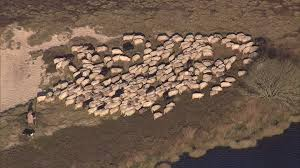sheep: (34, 90, 46, 102), (63, 95, 76, 105), (21, 127, 37, 135), (93, 45, 109, 53), (50, 56, 66, 64), (124, 108, 138, 117), (190, 91, 205, 99), (223, 75, 238, 83), (110, 66, 123, 75), (131, 37, 145, 45), (66, 63, 77, 73), (177, 84, 187, 95), (150, 103, 162, 112), (207, 89, 219, 98), (220, 80, 232, 89), (156, 34, 169, 42), (236, 67, 247, 76), (70, 43, 81, 52), (110, 48, 124, 55), (242, 57, 254, 65), (211, 83, 221, 92), (163, 105, 174, 113), (153, 112, 163, 120), (225, 61, 233, 71), (202, 50, 213, 57)
